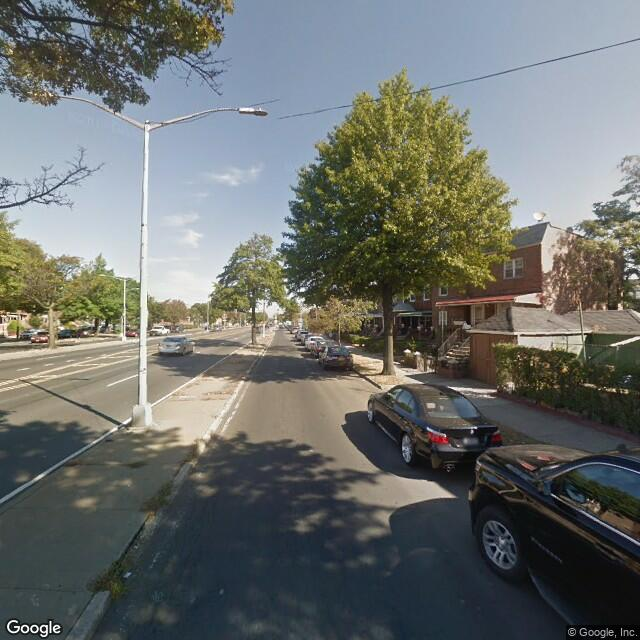litter: (123, 571, 136, 581)
